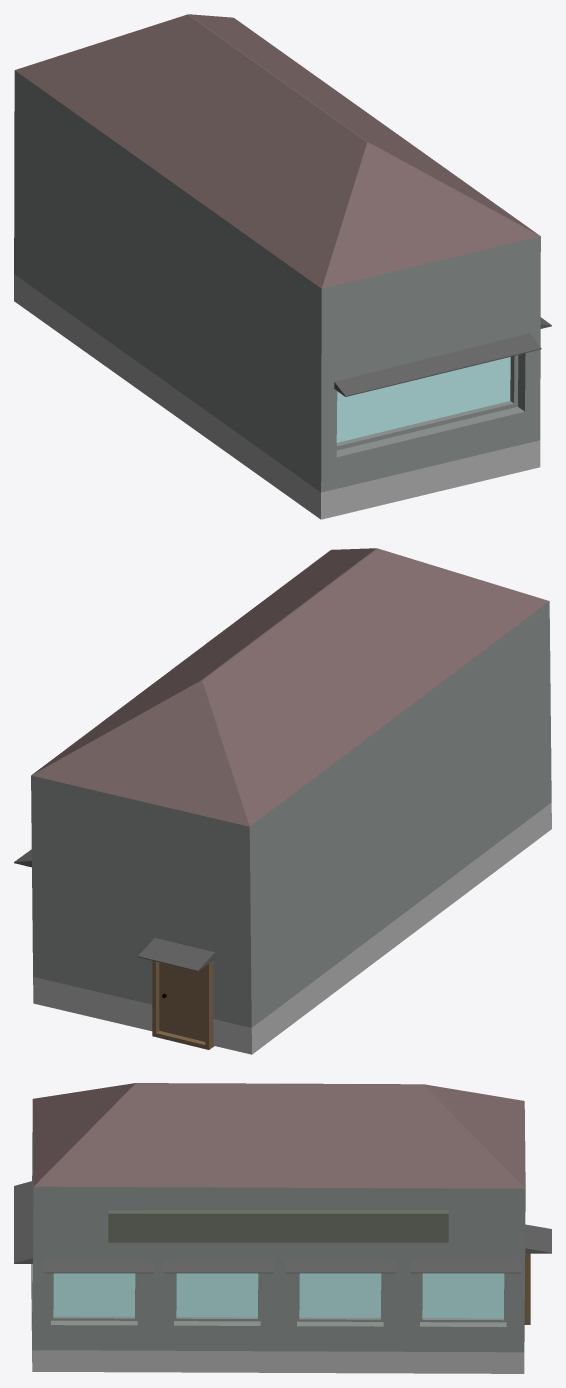
File: pasport check_big.fbx
The picture shows the model from 3 angles, top to bottom: view 1: azimuth 30°, elevation 25°; view 2: azimuth 150°, elevation 25°; view 3: azimuth 270°, elevation 25°; orthographic projection. The views are drawn at different scales.
Parts seen in each view (by area): view 1: polySurface11; view 2: polySurface11, polySurface6; view 3: polySurface11, polySurface6.
Part boxes in pixels (box(x1,y1,x2,y2)): polySurface11: box(14, 14, 551, 519); polySurface11: box(14, 548, 551, 1054); polySurface6: box(138, 938, 214, 1049); polySurface11: box(14, 1083, 525, 1373); polySurface6: box(524, 1224, 551, 1324).
Size of the model in its own units: 2.91 by 3.55 by 6.96.
